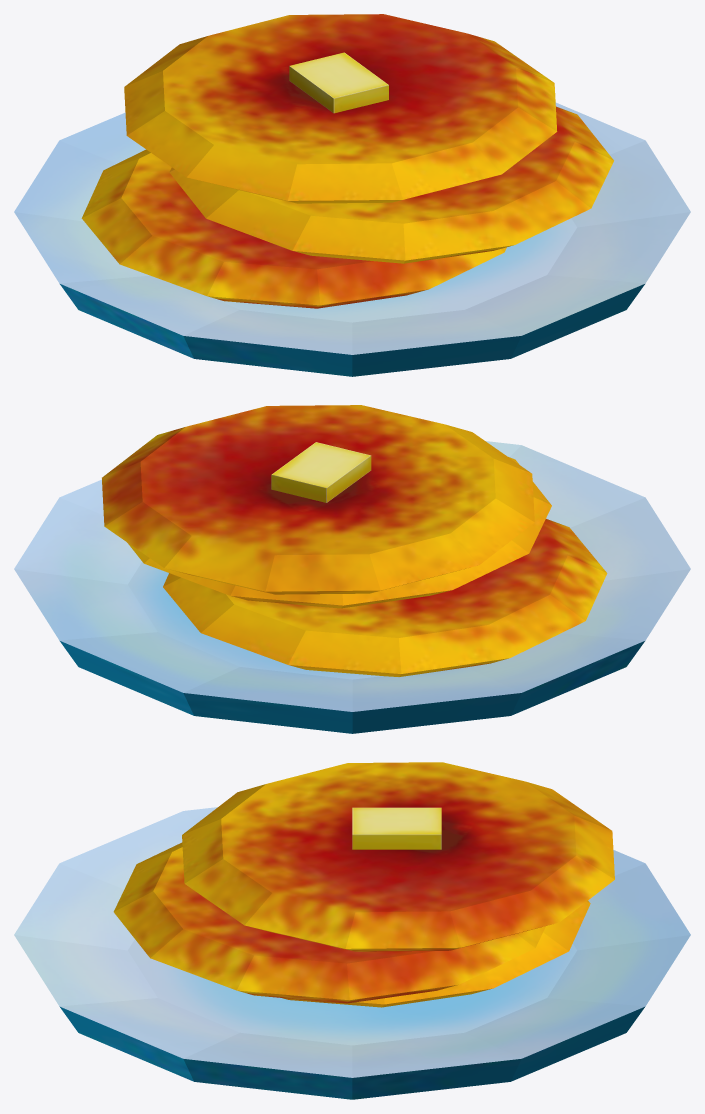
The model's file is pancakes.fbx.
3 renders of one model, top to bottom at view 1: azimuth 30°, elevation 25°; view 2: azimuth 150°, elevation 25°; view 3: azimuth 270°, elevation 25°, orthographic.
Visible parts, largest first — view 1: A Plate Of Pancakes, Fritters.001, Cylinder.002, Fritters, Butter; view 2: A Plate Of Pancakes, Fritters.001, Fritters, Cylinder.002, Butter; view 3: A Plate Of Pancakes, Fritters.001, Cylinder.002, Fritters, Butter.
Boxes of the visible parts, left/top/right/bottom form: A Plate Of Pancakes: left=14, top=102, right=690, bottom=376; Fritters.001: left=124, top=14, right=557, bottom=203; Cylinder.002: left=169, top=106, right=613, bottom=263; Fritters: left=81, top=149, right=506, bottom=308; Butter: left=289, top=52, right=388, bottom=113; A Plate Of Pancakes: left=14, top=441, right=690, bottom=733; Fritters.001: left=102, top=405, right=534, bottom=594; Fritters: left=163, top=519, right=607, bottom=676; Cylinder.002: left=127, top=457, right=551, bottom=608; Butter: left=271, top=442, right=371, bottom=502; A Plate Of Pancakes: left=14, top=807, right=690, bottom=1099; Fritters.001: left=182, top=762, right=614, bottom=951; Cylinder.002: left=113, top=842, right=545, bottom=1003; Fritters: left=282, top=901, right=590, bottom=1007; Butter: left=352, top=807, right=441, bottom=849.
Size of the model in its own units: 187 by 53.2 by 187.
5 materials, 5 textured.
